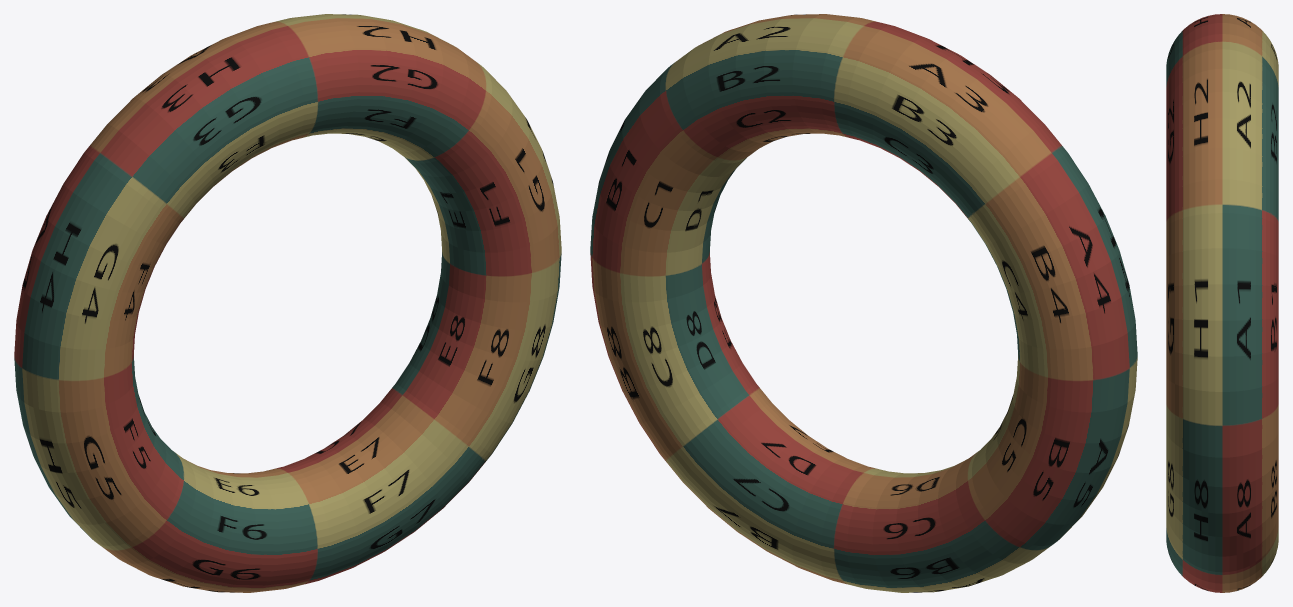
Rendered from texture_torus_R4_r4.glb.
3 views of the same model, side by side, from view 1: azimuth 30°, elevation 25°; view 2: azimuth 150°, elevation 25°; view 3: azimuth 270°, elevation 25° (orthographic). The views are drawn at different scales.
Parts seen in each view (by area): view 1: world; view 2: world; view 3: world.
Boxes of the visible parts, box(x1,y1,x2,y2) form: world: box(14, 14, 561, 592); world: box(590, 14, 1137, 592); world: box(1166, 14, 1278, 592).
Bounding box in the file's own units: 15.73 × 15.7 × 3.06.
1 material, 1 textured.
